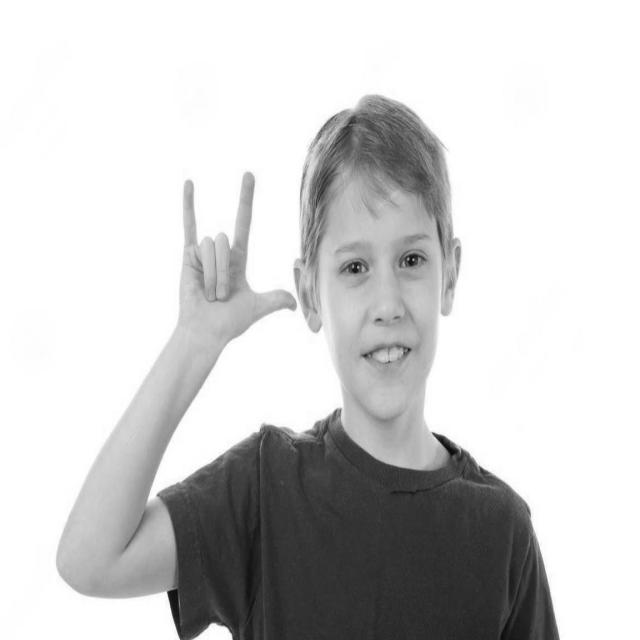i love you: (168, 162, 300, 387)
